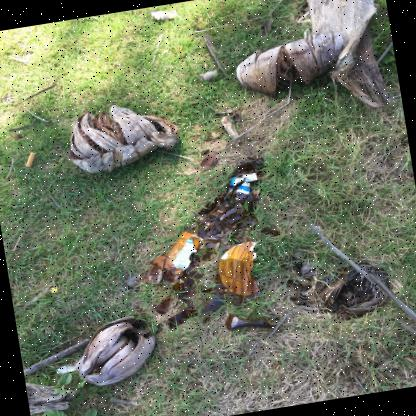Broken glass: (143, 158, 266, 329), (224, 313, 272, 330), (154, 289, 171, 314)
Cigarette: (25, 152, 35, 167)
